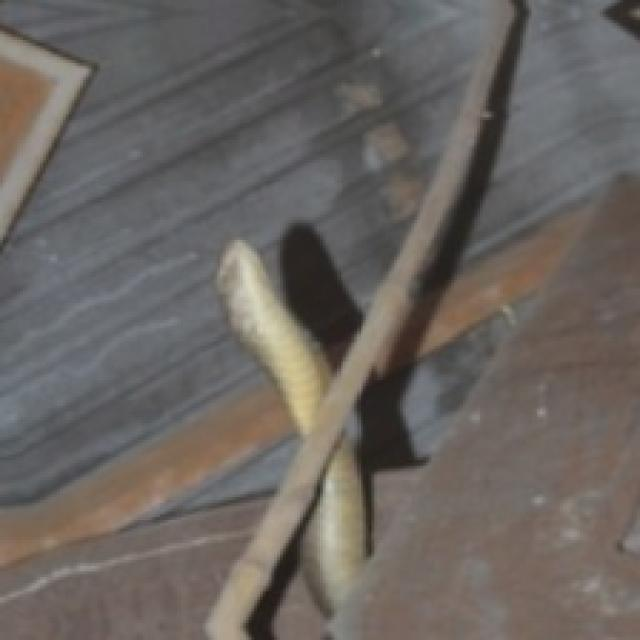king cobra: (217, 240, 329, 434), (300, 440, 363, 611)
